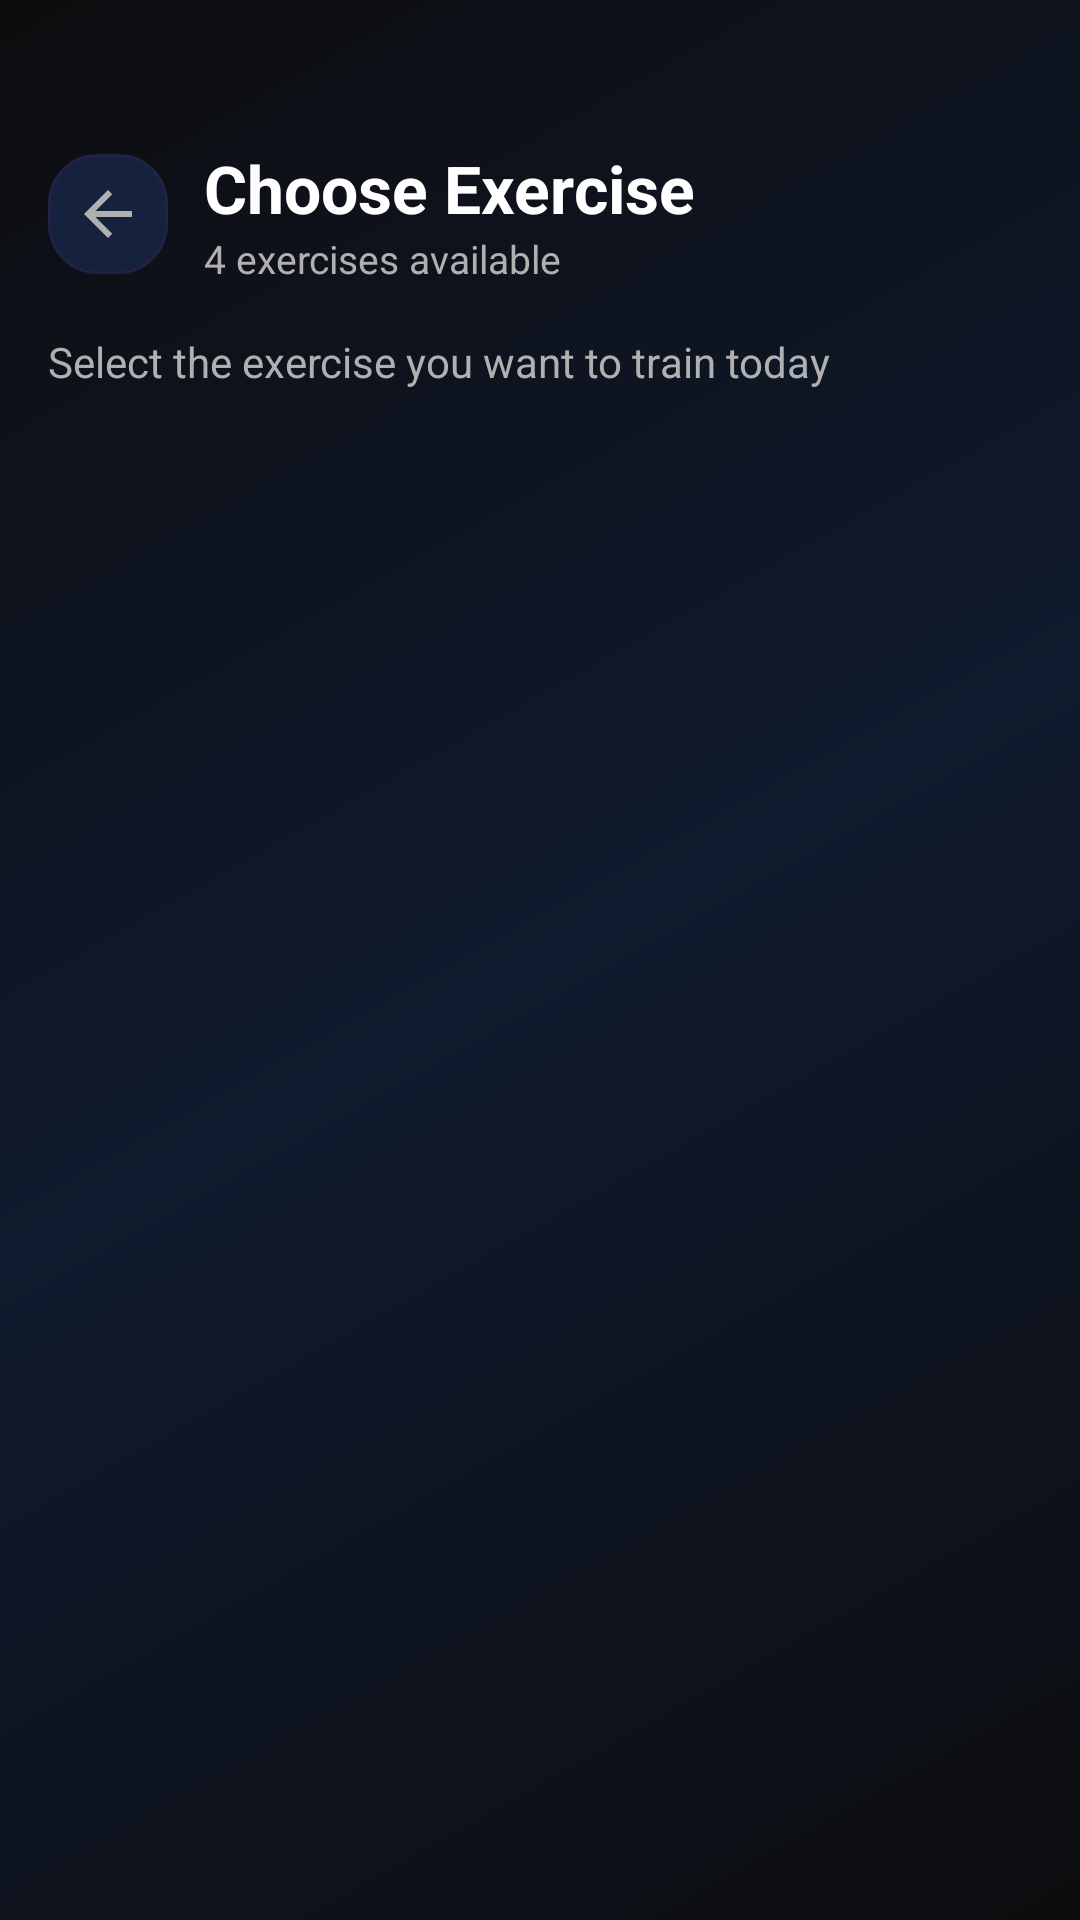

Named icons in this screenshot (1080×1920) and their bounding boxes, (x1, y1, x2, y2):
Back: (48, 154, 168, 274)
